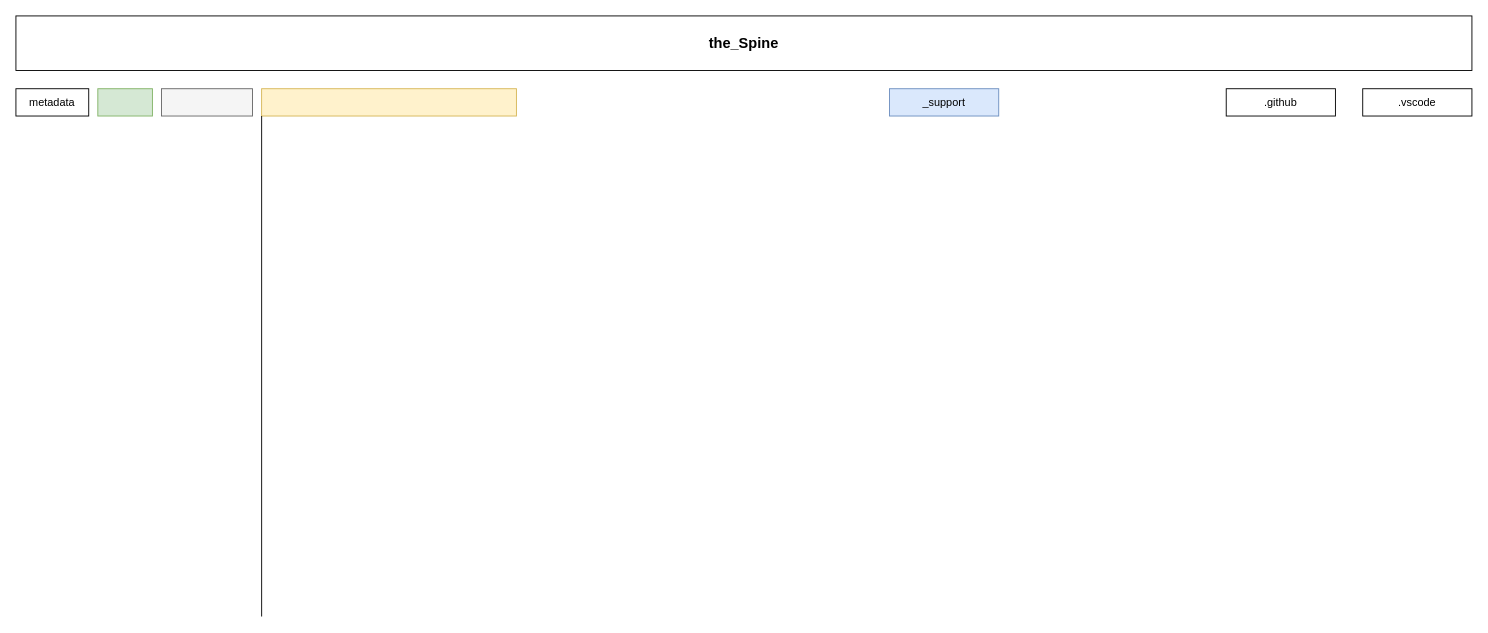
Some shapes in this 1488 by 633 pixel diagram are drawn without their labels. Here are the shapes that lost their labels. From the top down, the box of each, then its label:
(97, 88, 152, 116): exports
(161, 88, 253, 116): data
(261, 88, 516, 116): src
